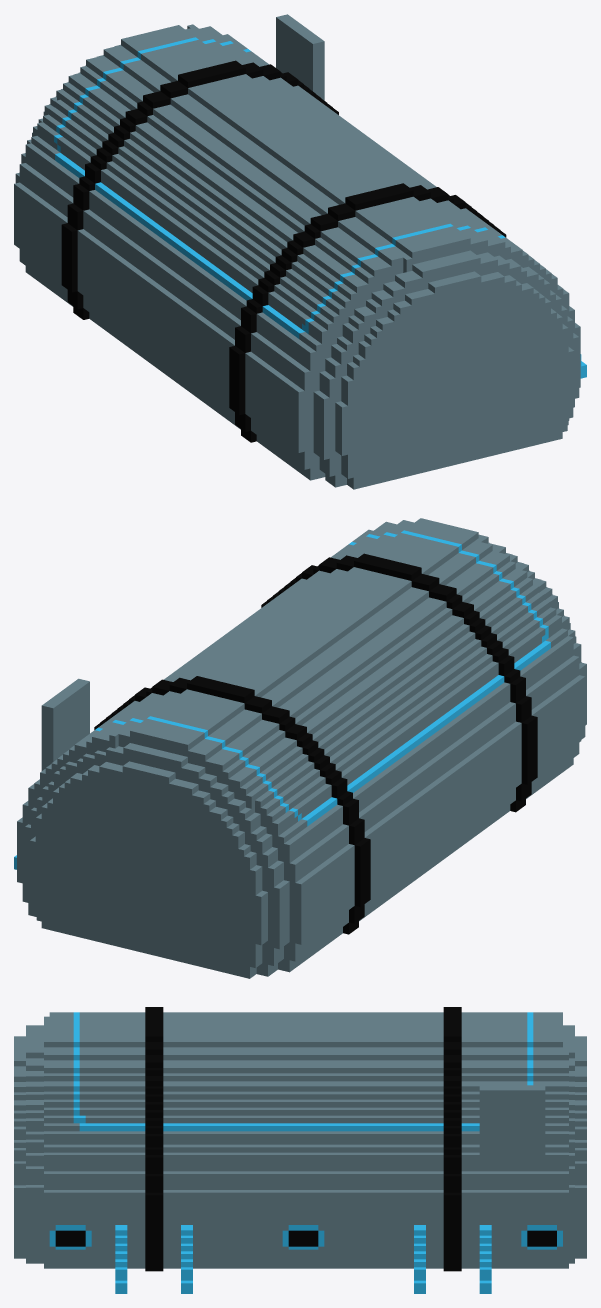
File: MainGenerator.fbx
The picture shows the model from 3 angles, top to bottom: view 1: azimuth 30°, elevation 25°; view 2: azimuth 150°, elevation 25°; view 3: azimuth 270°, elevation 25°; orthographic projection. The views are drawn at different scales.
Visible parts, largest first — view 1: Matrix; view 2: Matrix; view 3: Matrix, Box, Box_3, Box_1, Box_2.
Boxes of the visible parts, box(x1,y1,x2,y2) form: Matrix: box(14, 14, 580, 489); Matrix: box(17, 518, 586, 978); Matrix: box(14, 1007, 586, 1271); Box: box(115, 1225, 127, 1293); Box_3: box(479, 1225, 491, 1293); Box_1: box(181, 1225, 192, 1293); Box_2: box(414, 1225, 425, 1293).
Size of the model in its own units: 57 by 35 by 96.
Materials: 1 (1 with a texture image).
